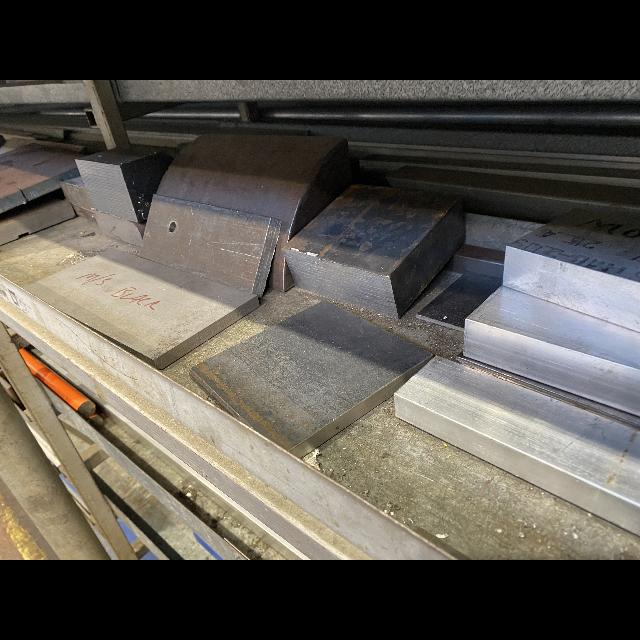Aluminium: (394, 355, 640, 537), (463, 285, 640, 417), (502, 208, 640, 333)
Ferrous Metal: (189, 301, 434, 458), (156, 134, 353, 292), (22, 248, 260, 369), (282, 184, 465, 320), (139, 194, 282, 297), (75, 148, 164, 223), (0, 142, 85, 213), (19, 348, 94, 419), (416, 272, 502, 332), (0, 196, 76, 245), (93, 210, 147, 247), (59, 176, 93, 210), (85, 413, 103, 429)
